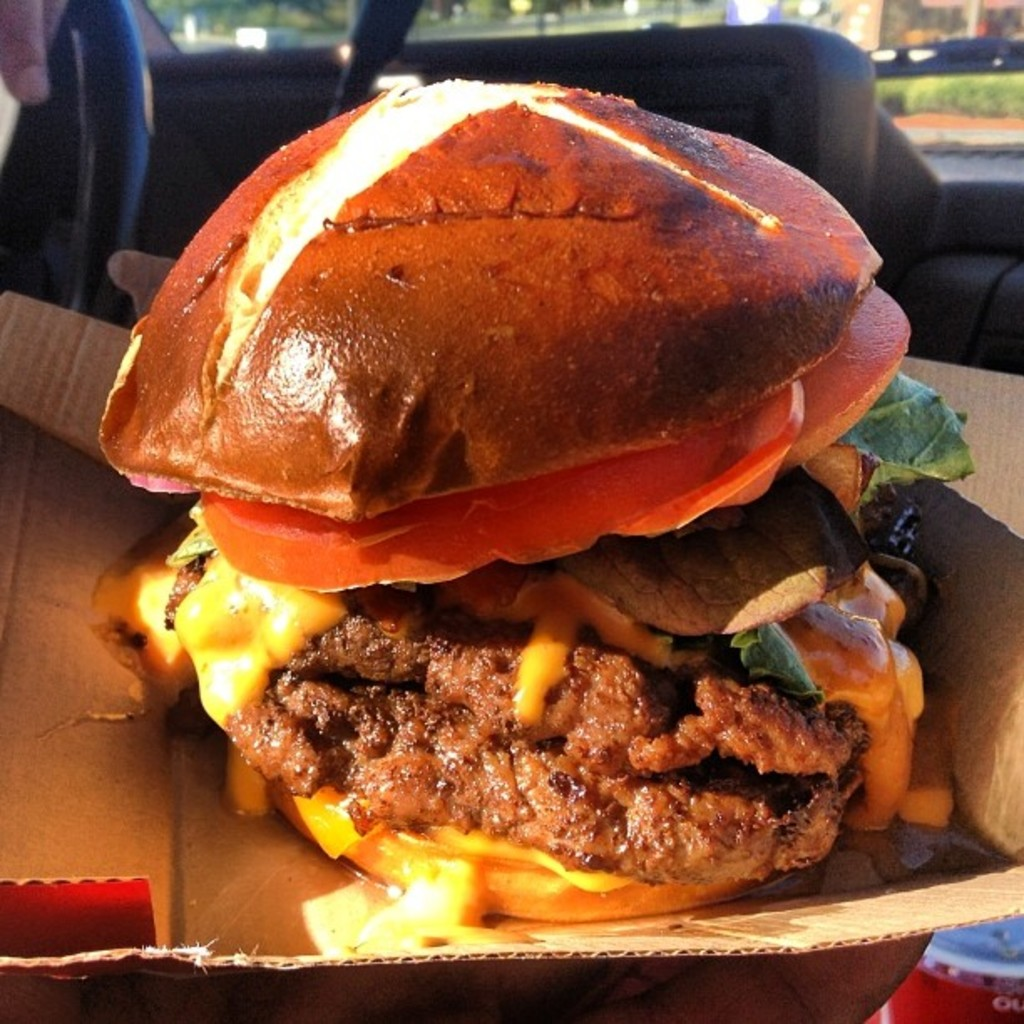Hamburger: (97, 80, 975, 918)
